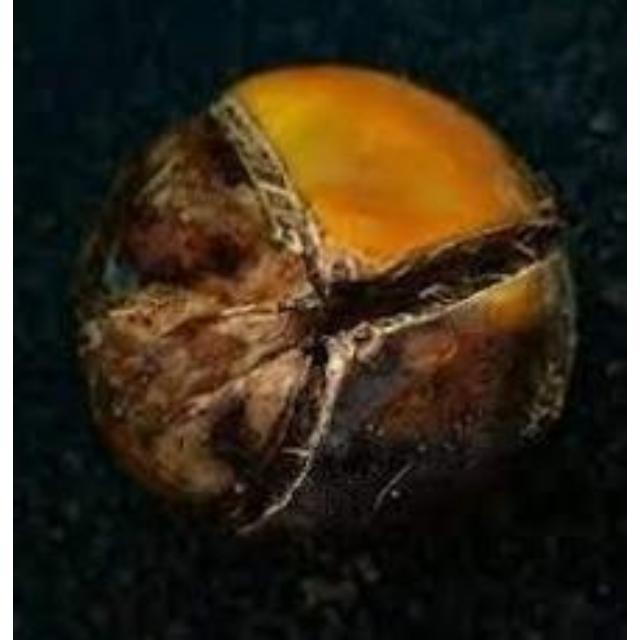damaged: (77, 61, 580, 537)
